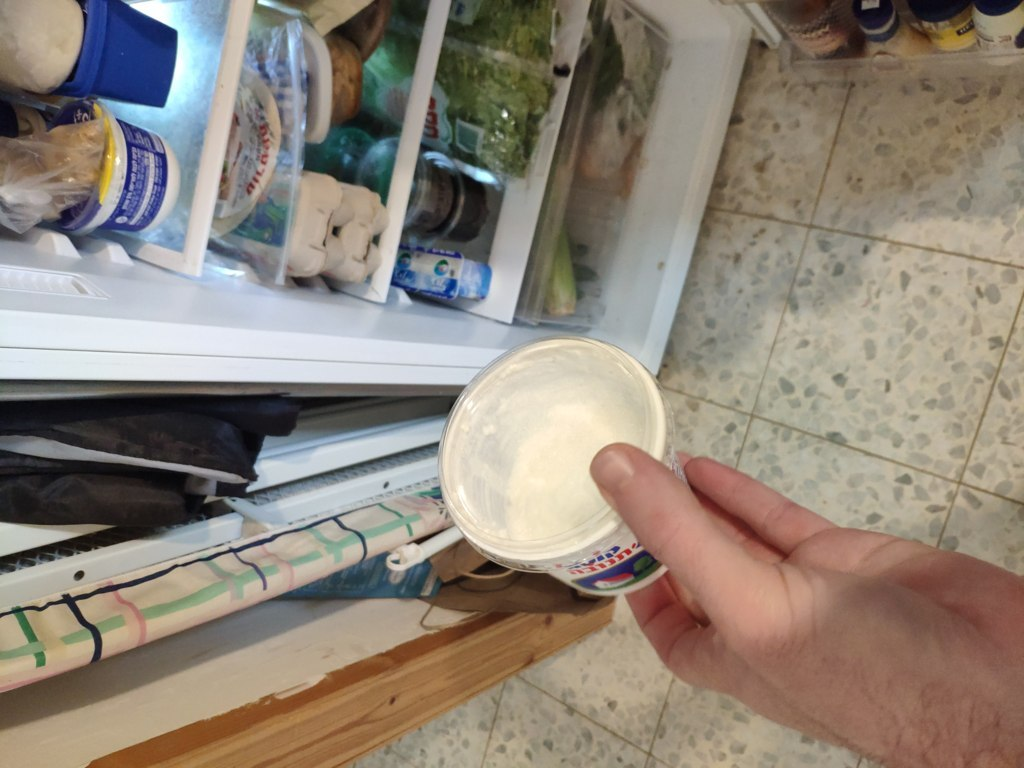Cotage: (421, 334, 690, 613)
